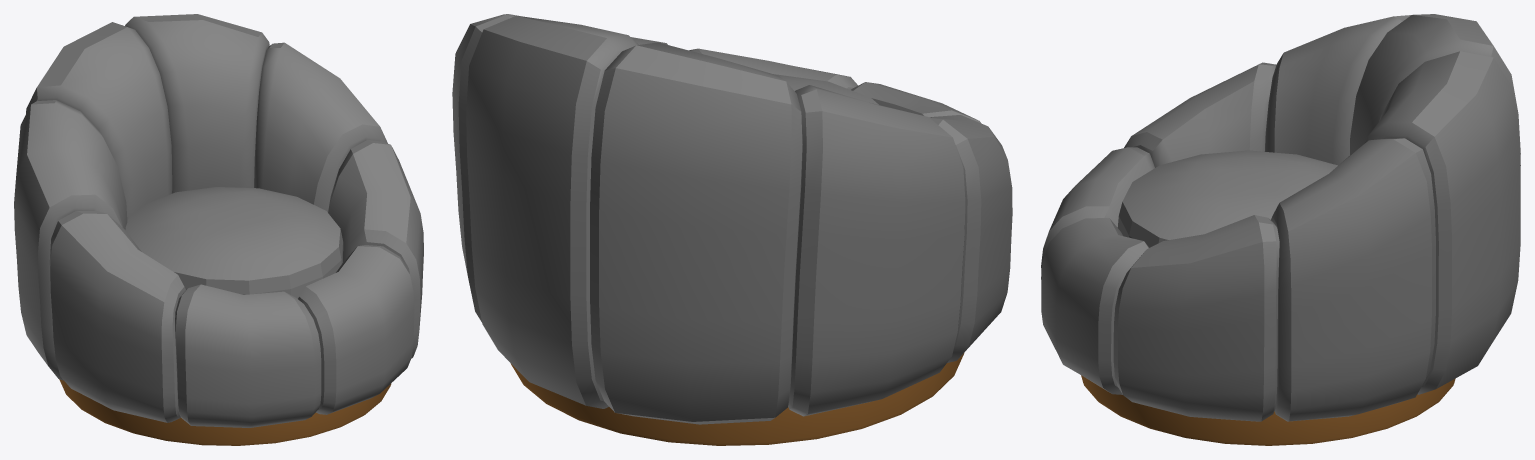
The model's file is Inger_Swivel_Chair_Cream_.fbx.
3 renders of one model, left to right at view 1: azimuth 30°, elevation 25°; view 2: azimuth 150°, elevation 25°; view 3: azimuth 270°, elevation 25°, orthographic. The views are drawn at different scales.
Parts seen in each view (by area): view 1: Inger_Swivel_Chair_Cream_001, Inger_Swivel_Chair_Cream_002; view 2: Inger_Swivel_Chair_Cream_001, Inger_Swivel_Chair_Cream_002; view 3: Inger_Swivel_Chair_Cream_001, Inger_Swivel_Chair_Cream_002.
Boxes of the visible parts, x1,y1,x2,y2 form: Inger_Swivel_Chair_Cream_001: [14, 14, 423, 427]; Inger_Swivel_Chair_Cream_002: [59, 379, 391, 445]; Inger_Swivel_Chair_Cream_001: [452, 14, 1012, 424]; Inger_Swivel_Chair_Cream_002: [510, 352, 964, 445]; Inger_Swivel_Chair_Cream_001: [1041, 14, 1520, 421]; Inger_Swivel_Chair_Cream_002: [1081, 375, 1455, 445].
Bounding box in the file's own units: 848 × 665 × 897.
